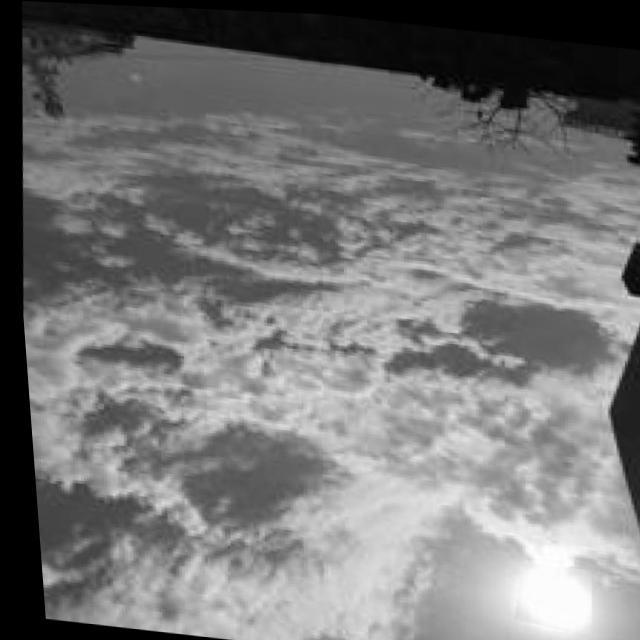sun: (508, 559, 582, 625)
